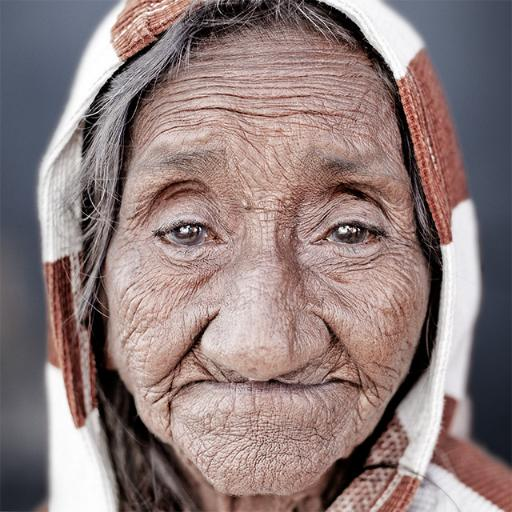left_eye: (312, 219, 384, 254)
left_lip_corner: (338, 372, 363, 398)
right_eye: (154, 217, 225, 251)
right_lip_corner: (178, 373, 222, 397)
